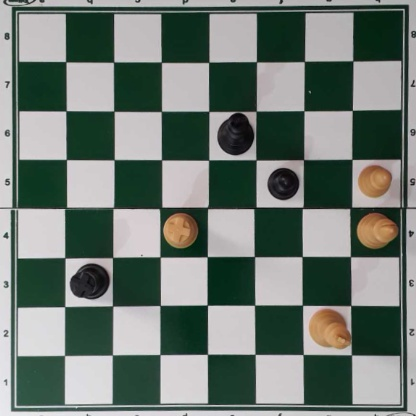black-king: (216, 111, 255, 155)
black-pawn: (267, 165, 299, 200)
black-rook: (69, 263, 110, 300)
white-bishop: (356, 211, 400, 249)
white-king: (308, 308, 351, 349)
white-pawn: (356, 164, 392, 199)
white-rook: (162, 212, 199, 249)
